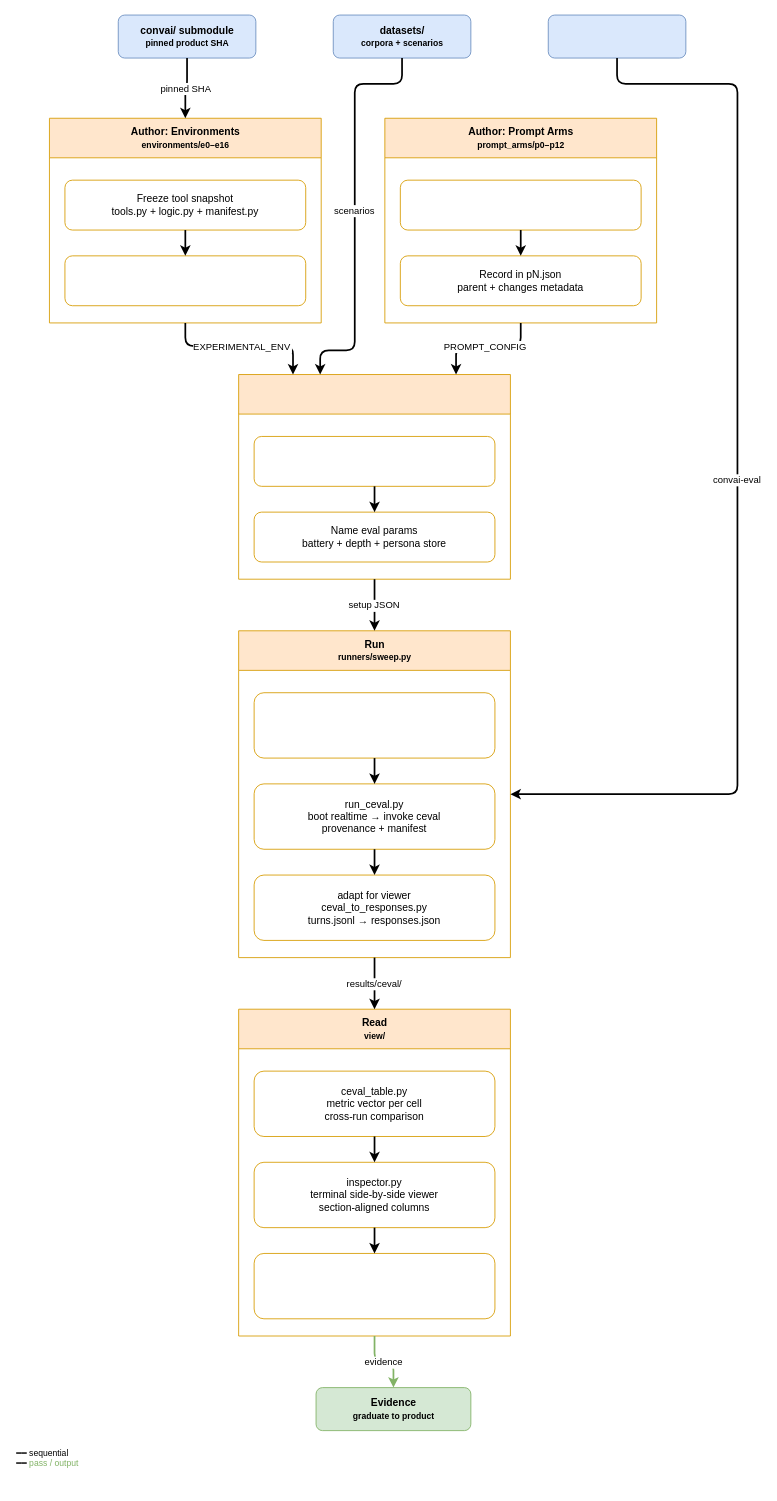
The diagram is 777 pixels wide and 1501 high, and some of its shapes have lost their labels. Each missing label, with the box of its shape:
Compose sections prompt_arms/sections/pN/: (399, 179, 641, 230)
Configure runners/setups/ + eval_params.py: (238, 374, 510, 579)
convai-eval sibling checkout: (547, 14, 686, 58)
Define cell setup JSON prompt_pN_env_eM[_think].json: (253, 436, 495, 486)
Register lineage tree.py renders parent→child: (64, 255, 306, 306)
sweep.py eval_params × cells matrix sequential, one cell at a time: (253, 692, 495, 758)
view/app/ (React+Vite) real chart components pinned product renderer: (253, 1253, 495, 1319)
